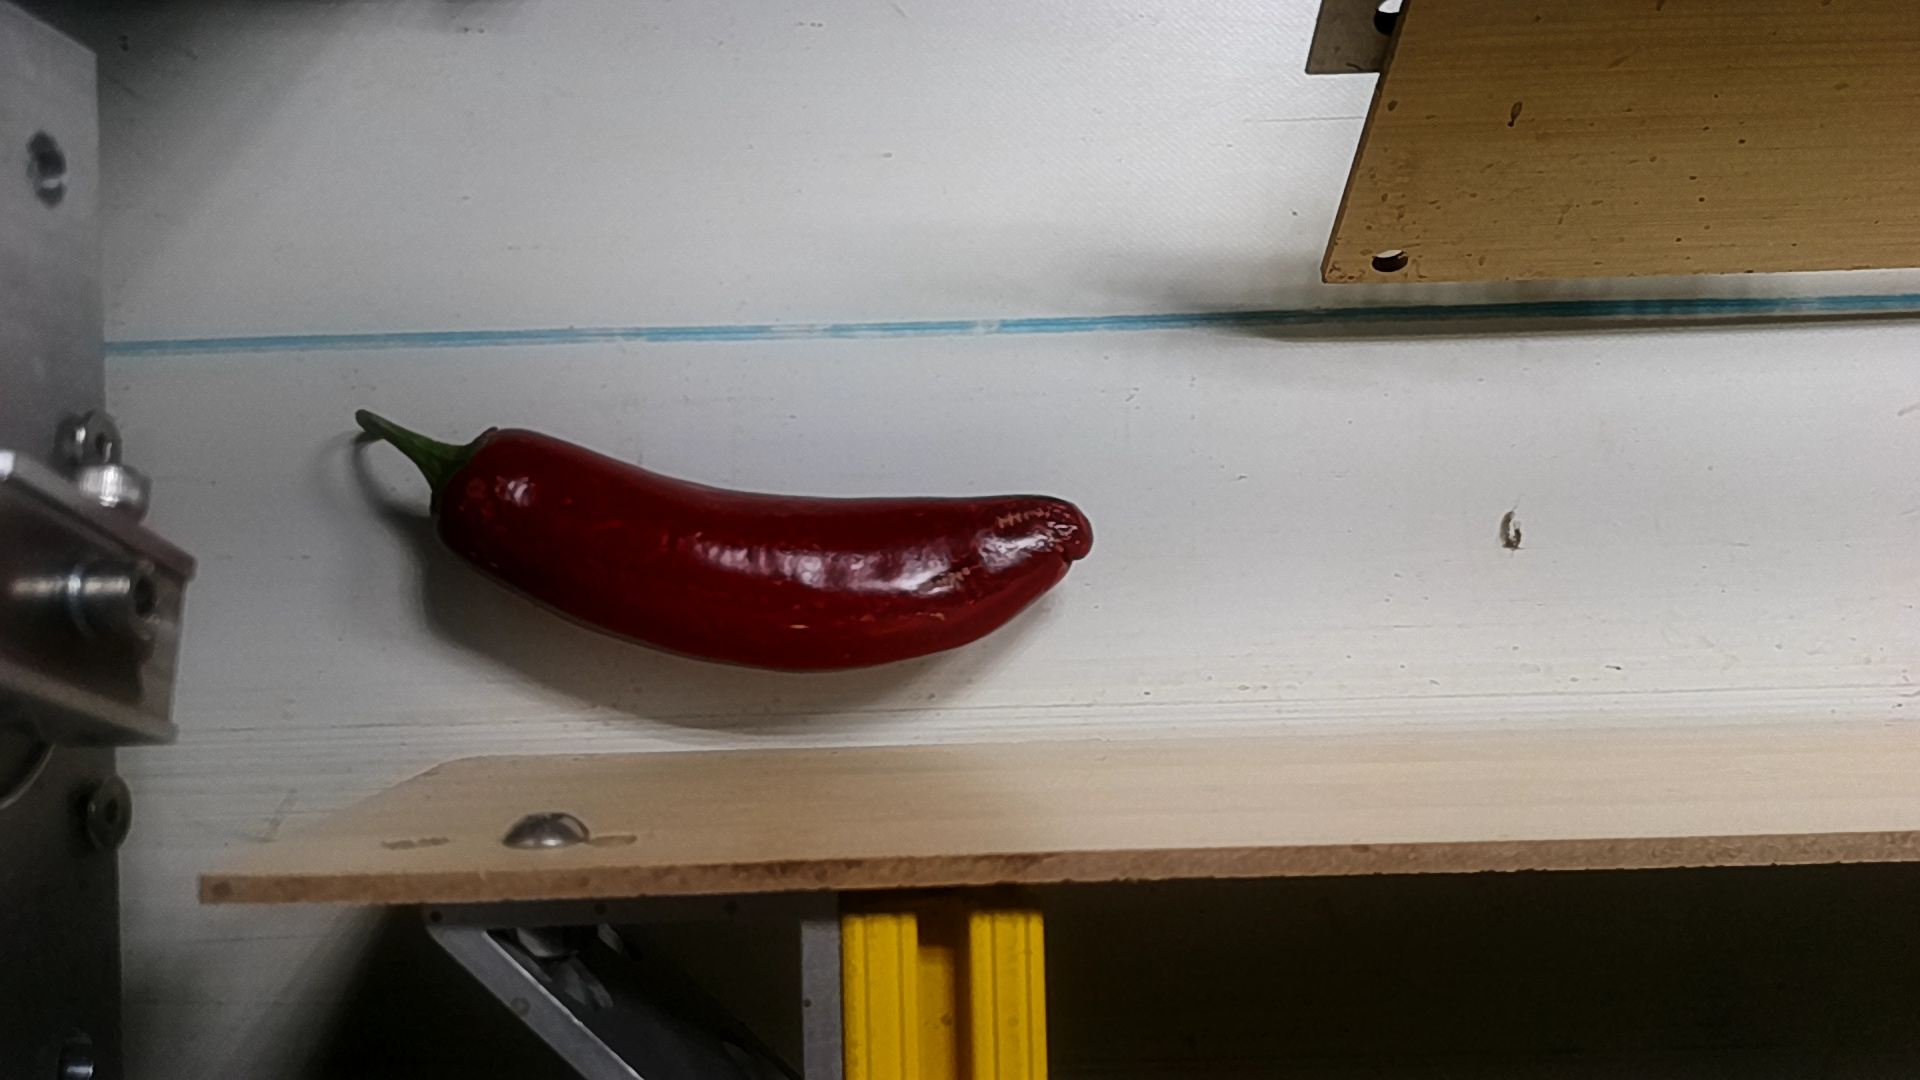Cut Point: (405, 407, 538, 564)
